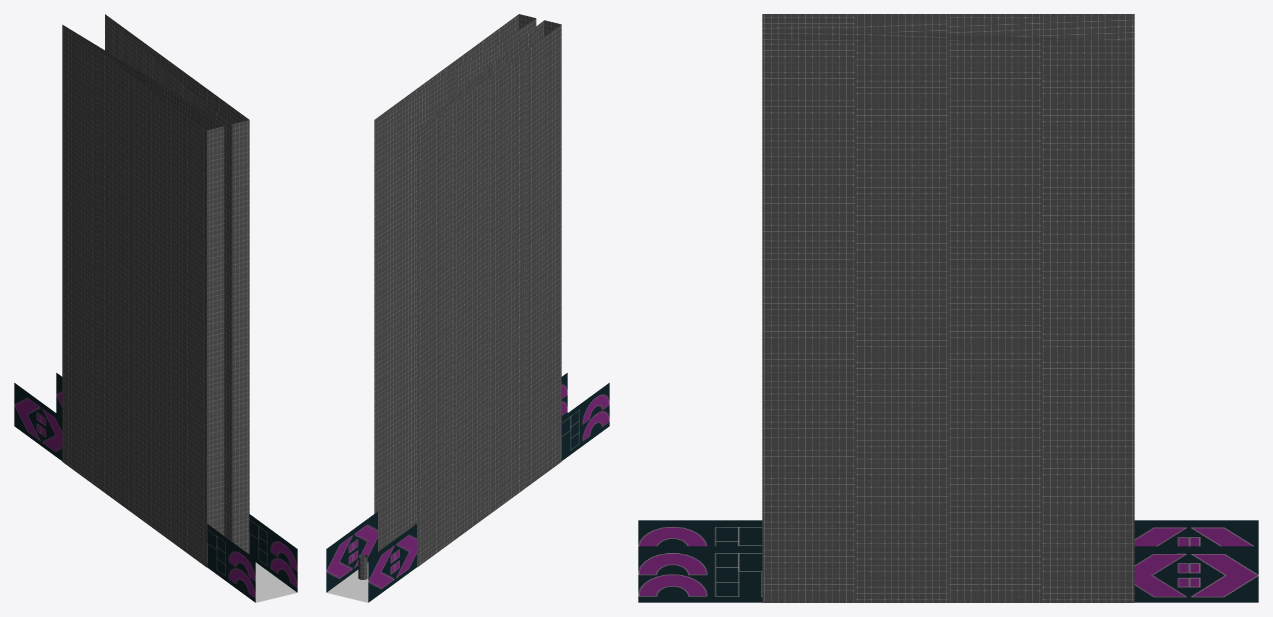
The model's file is Tile01.fbx.
The picture shows the model from 3 angles, left to right: view 1: azimuth 30°, elevation 25°; view 2: azimuth 150°, elevation 25°; view 3: azimuth 270°, elevation 25°; orthographic projection. The views are drawn at different scales.
Parts seen in each view (by area): view 1: pCube8, pCube9, WallRight, WallLeft, Ground; view 2: pCube8, pCube9, WallRight, WallLeft, Ground; view 3: pCube9, WallLeft, pCube8, WallRight.
Boxes of the visible parts, bbox=[...] form: pCube8: bbox=[62, 24, 224, 567]; pCube9: bbox=[105, 14, 249, 553]; WallRight: bbox=[14, 383, 255, 602]; WallLeft: bbox=[56, 373, 297, 592]; Ground: bbox=[255, 562, 296, 602]; pCube8: bbox=[417, 20, 561, 567]; pCube9: bbox=[374, 14, 536, 551]; WallRight: bbox=[368, 383, 609, 602]; WallLeft: bbox=[326, 373, 567, 592]; Ground: bbox=[327, 562, 368, 602]; pCube9: bbox=[762, 30, 1134, 602]; WallLeft: bbox=[638, 546, 1258, 602]; pCube8: bbox=[762, 14, 1134, 40]; WallRight: bbox=[638, 520, 1258, 546].
Size of the model in its own units: 10.22 by 100 by 100.
